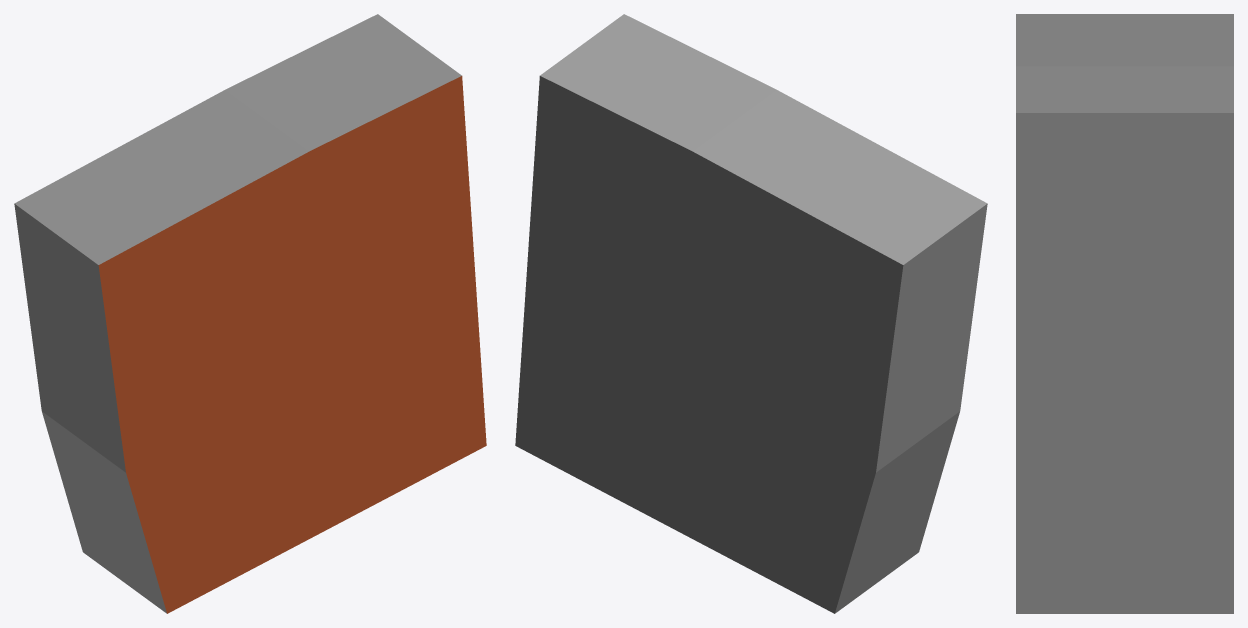
File: construction_6399_assumed_A_Casa_h6m.obj
3 renders of one model, left to right at view 1: azimuth 30°, elevation 25°; view 2: azimuth 150°, elevation 25°; view 3: azimuth 270°, elevation 25°, orthographic. The views are drawn at different scales.
Visible parts, largest first — view 1: construction_6399_assumed_A_Casa; view 2: construction_6399_assumed_A_Casa; view 3: construction_6399_assumed_A_Casa.
Part boxes in pixels (x1,y1,x2,y2): construction_6399_assumed_A_Casa: (14,14,486,613); construction_6399_assumed_A_Casa: (515,14,987,613); construction_6399_assumed_A_Casa: (1016,14,1233,613).
Bounding box in the file's own units: 15.95 × 18.31 × 6.
